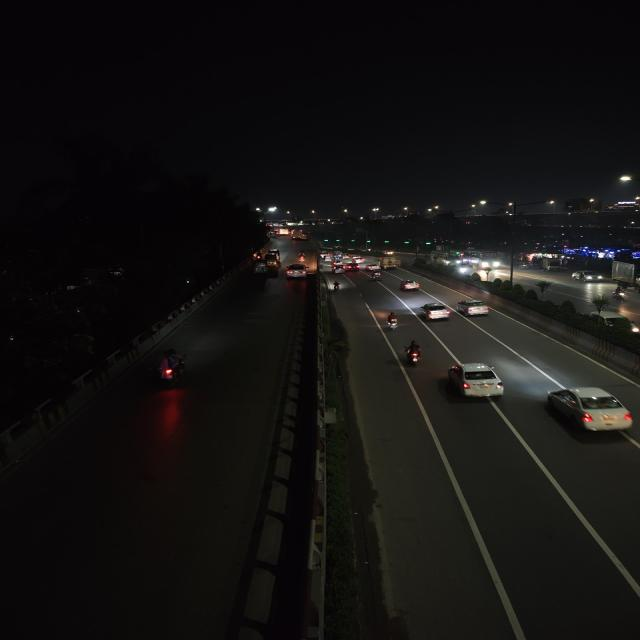bus: (464, 248, 502, 271), (429, 250, 463, 268)
car: (542, 383, 636, 441), (446, 361, 506, 403), (584, 305, 640, 336), (457, 296, 493, 318), (418, 301, 451, 322), (570, 270, 607, 282), (285, 262, 309, 279), (398, 278, 422, 292), (346, 262, 361, 272), (366, 262, 381, 272), (332, 265, 345, 274), (353, 258, 364, 264)
cng: (250, 258, 269, 274), (264, 252, 280, 266), (370, 270, 384, 284)
motorcycle: (153, 348, 191, 388), (402, 338, 422, 368), (383, 309, 401, 330), (613, 286, 628, 302), (295, 249, 308, 263), (332, 280, 342, 296)
truck: (606, 256, 640, 284), (541, 256, 562, 272), (378, 255, 398, 271), (290, 228, 304, 240)
